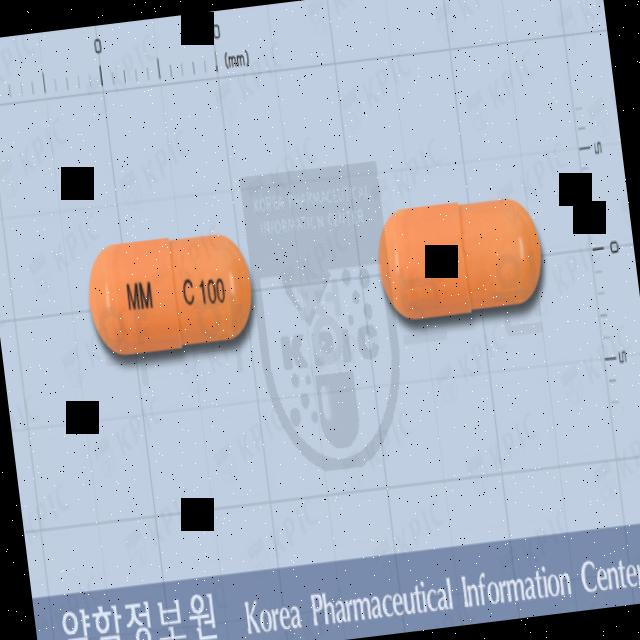Myungmoon Cefixime Cap: (80, 224, 258, 360)
